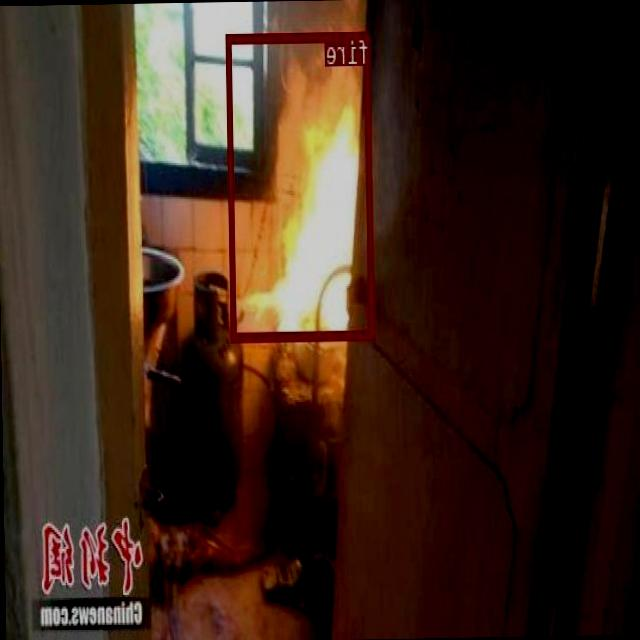fire: (226, 29, 375, 340)
